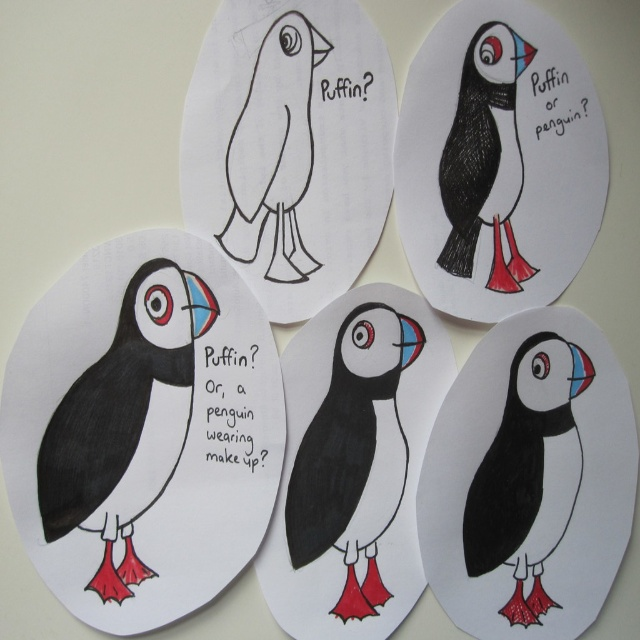Penguin: (432, 20, 535, 277)
